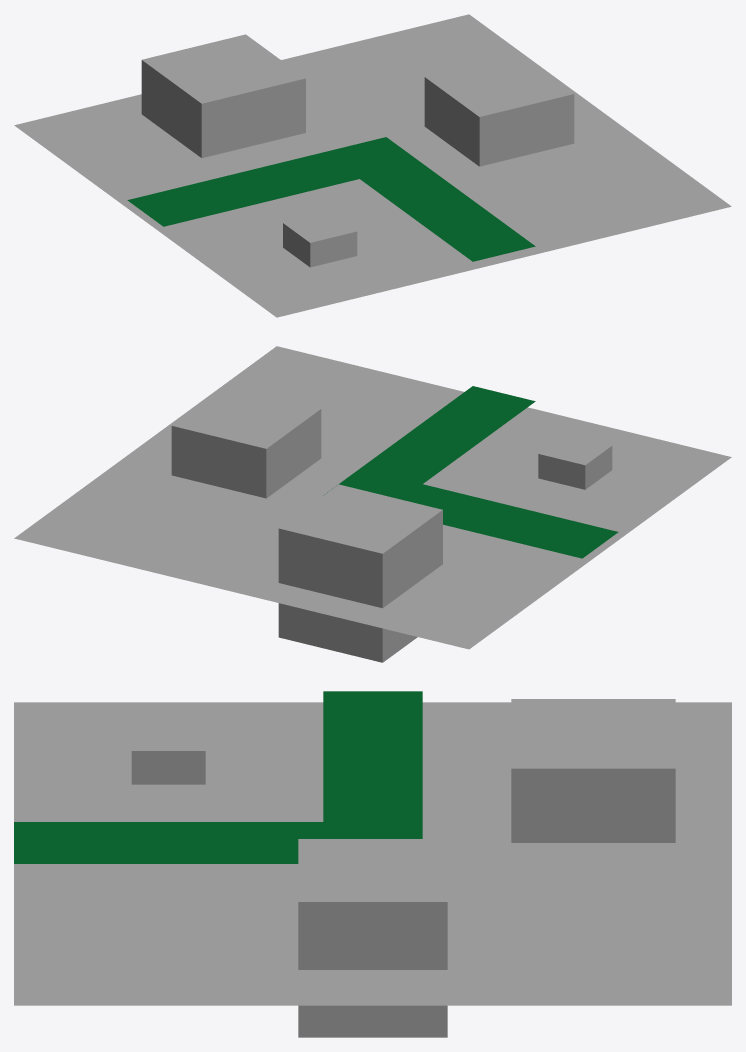
File: street_corner_001.fbx
3 views of the same model, one above another, from view 1: azimuth 30°, elevation 25°; view 2: azimuth 150°, elevation 25°; view 3: azimuth 270°, elevation 25° (orthographic). The views are drawn at different scales.
Visible parts, largest first — view 1: street_corner_001; view 2: street_corner_001; view 3: street_corner_001.
Part boxes in pixels (x1,y1,x2,y2): street_corner_001: (14,14,731,317); street_corner_001: (14,346,731,662); street_corner_001: (14,691,731,1037).
Size of the model in its own units: 1 by 0.2289 by 1.
